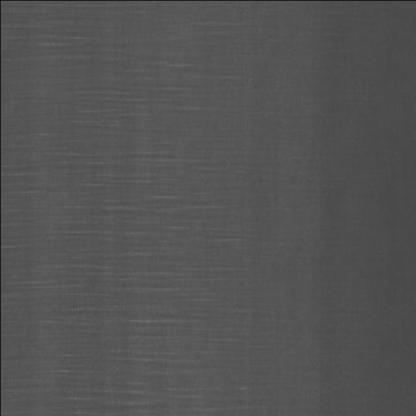waist_folding: (14, 37, 289, 385)
